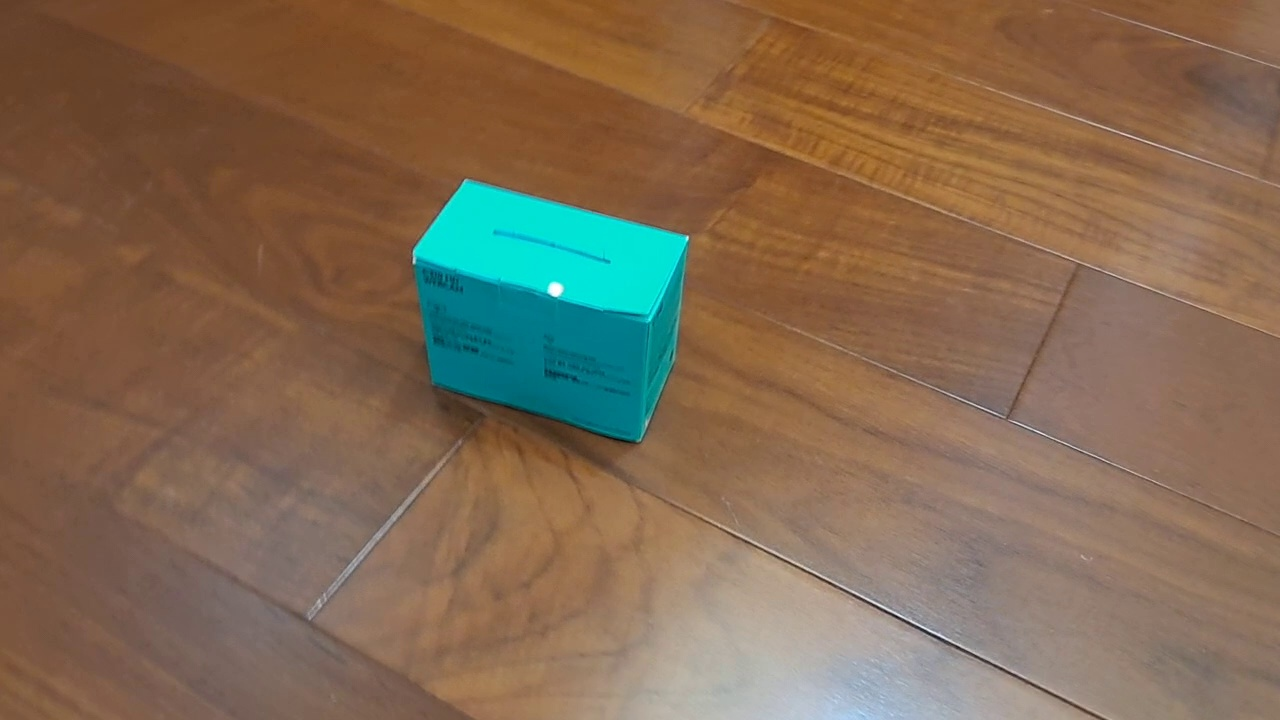webcam: (410, 177, 691, 445)
